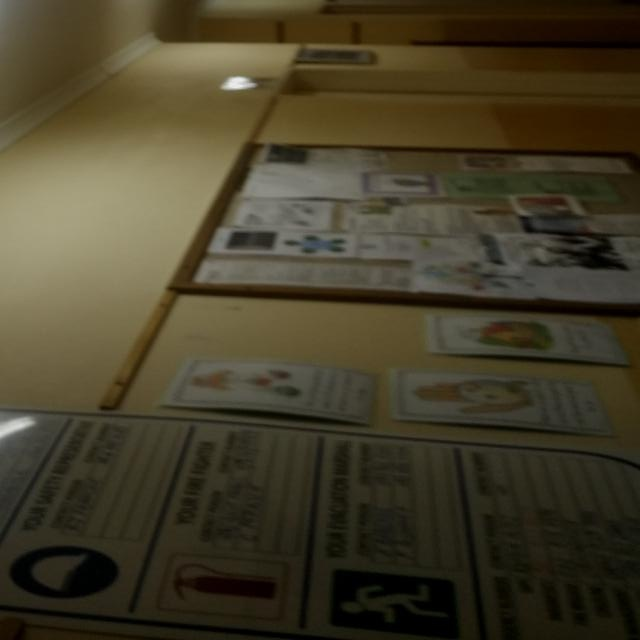fluorescent tube: (0, 0, 46, 40)
